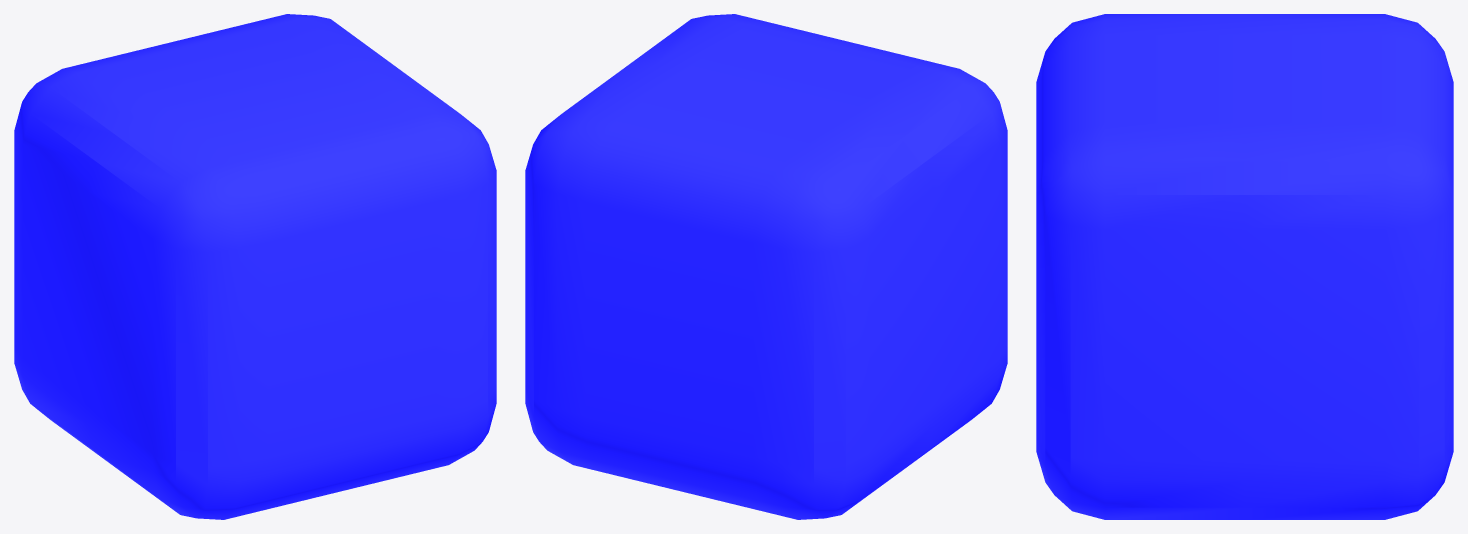
The model's file is BlueCube.fbx.
3 views of the same model, side by side, from view 1: azimuth 30°, elevation 25°; view 2: azimuth 150°, elevation 25°; view 3: azimuth 270°, elevation 25° (orthographic). The views are drawn at different scales.
Visible parts, largest first — view 1: BlueCube; view 2: BlueCube; view 3: BlueCube.
Part boxes in pixels (box(x1,y1,x2,y2)): BlueCube: box(14, 14, 496, 519); BlueCube: box(525, 14, 1007, 519); BlueCube: box(1036, 14, 1453, 519).
Bounding box in the file's own units: 0.242 × 0.24 × 0.242.
